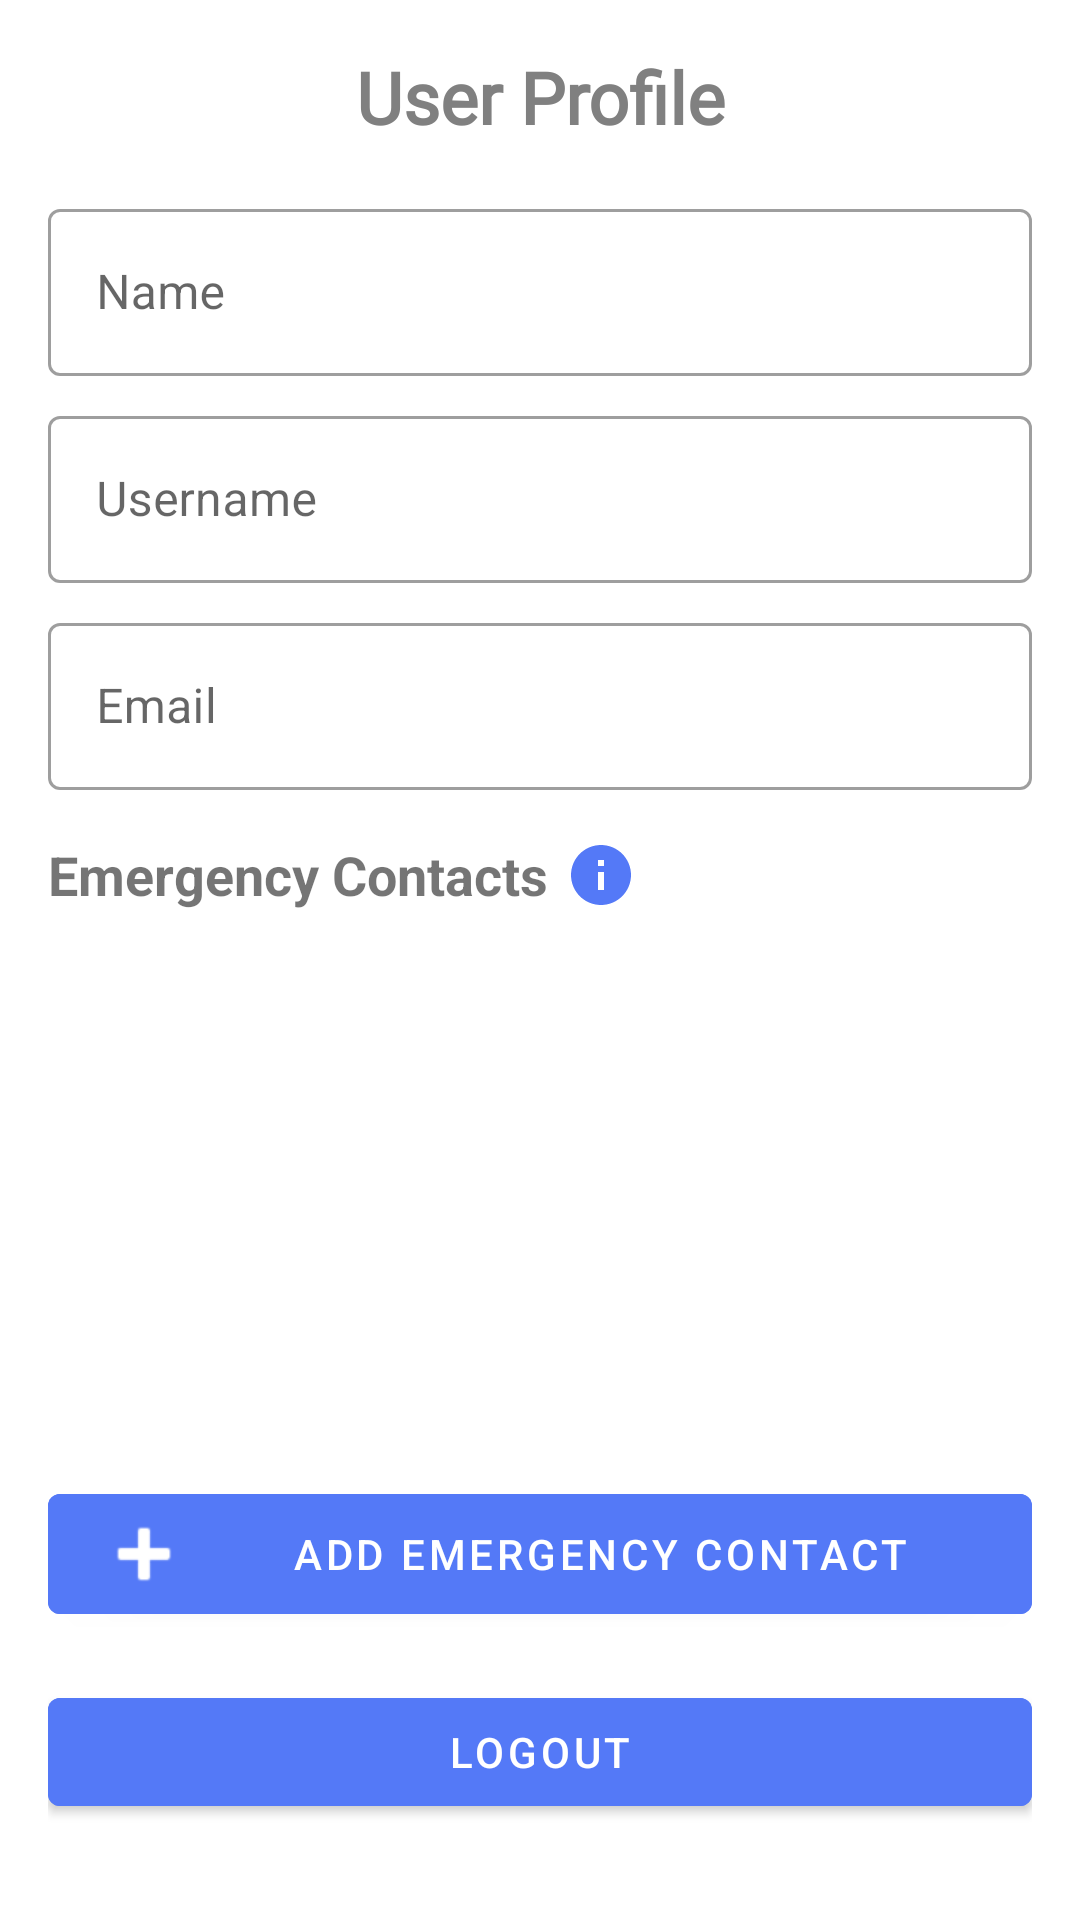

Icon click points for this 1080*1920 phone screenshot, format (x,y):
info: (601,875)
